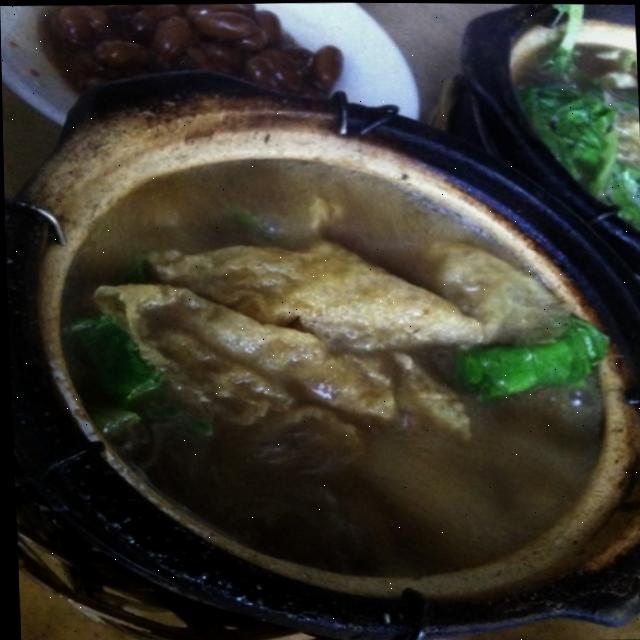汤锅炖物: (64, 155, 585, 580)
